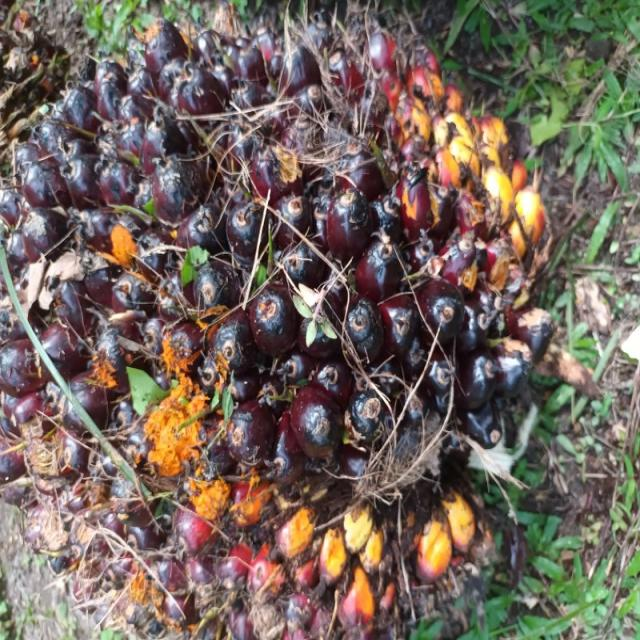fraksi 00: (90, 0, 640, 614)
